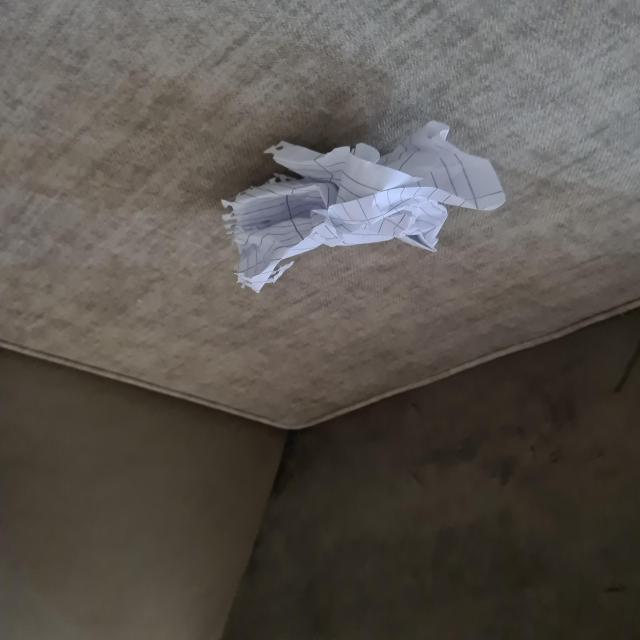kertas: (216, 110, 510, 294)
